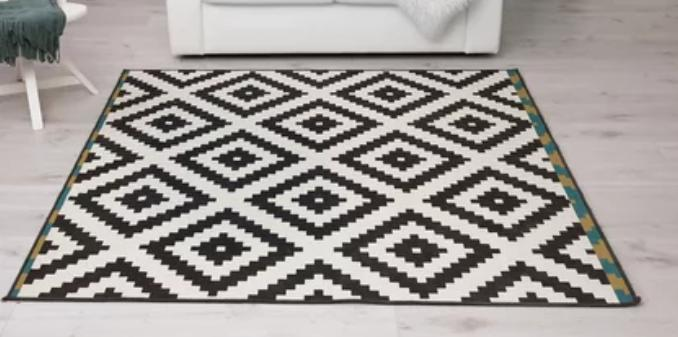carpet: (7, 70, 638, 305)
